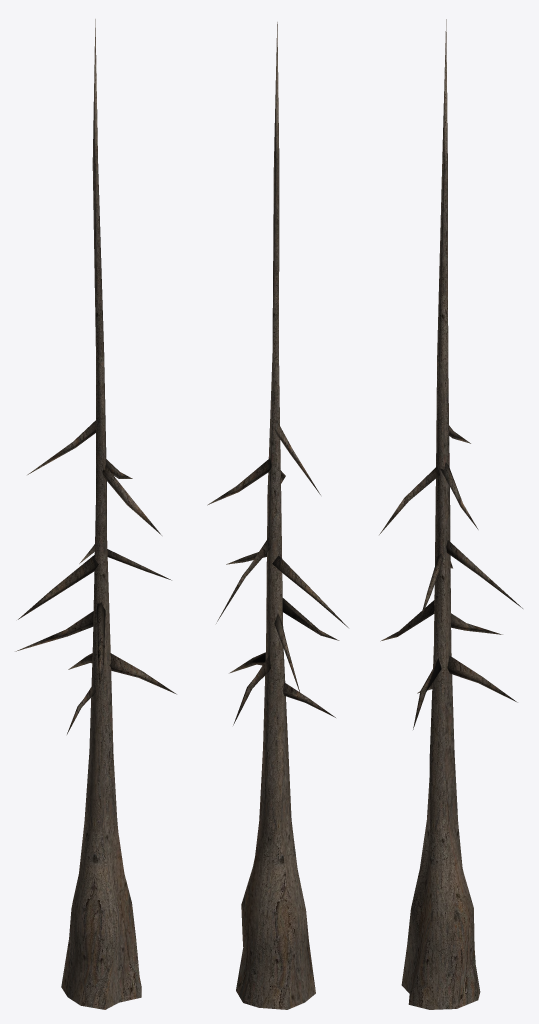
Rendered from distant-tree-26.glb.
The picture shows the model from 3 angles, left to right: view 1: azimuth 30°, elevation 25°; view 2: azimuth 150°, elevation 25°; view 3: azimuth 270°, elevation 25°; orthographic projection.
Parts seen in each view (by area): view 1: Tree_Trunk_01.001; view 2: Tree_Trunk_01.001; view 3: Tree_Trunk_01.001.
Boxes of the visible parts, left/top/right/bottom form: Tree_Trunk_01.001: left=15, top=19, right=176, bottom=1009; Tree_Trunk_01.001: left=207, top=22, right=348, bottom=1009; Tree_Trunk_01.001: left=379, top=19, right=522, bottom=1009.
Bounding box in the file's own units: 349 × 2308 × 313.
Materials: 1 (1 with a texture image).
